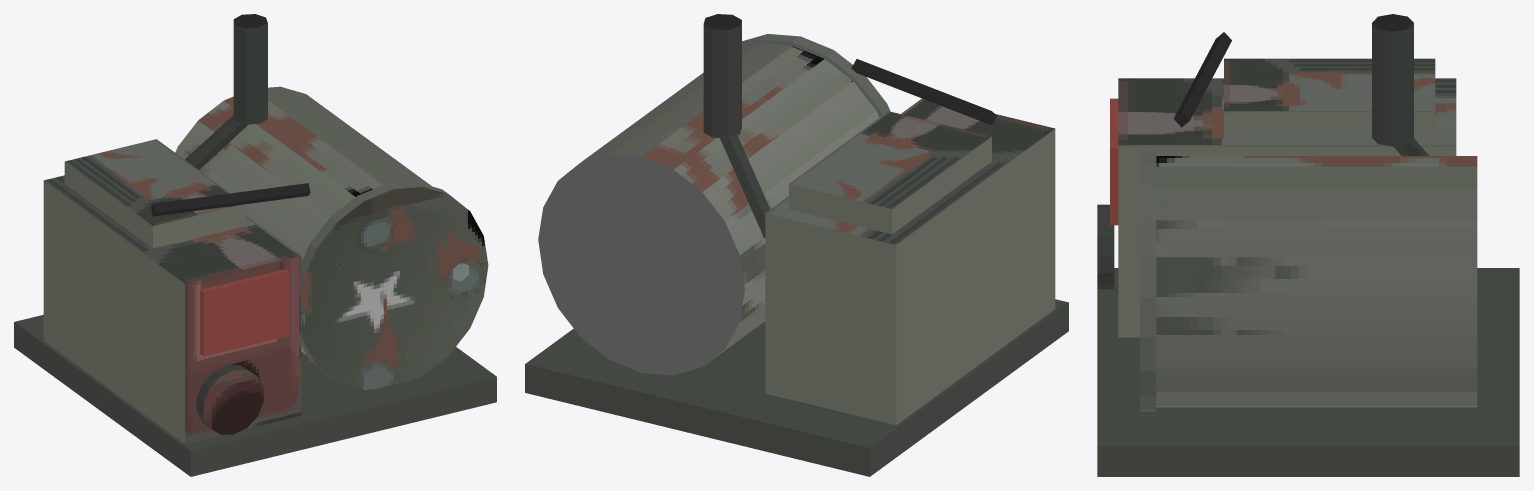
Rendered from Building_AncientMilitaryGeneratorSmall.glb.
3 views of the same model, side by side, from view 1: azimuth 30°, elevation 25°; view 2: azimuth 150°, elevation 25°; view 3: azimuth 270°, elevation 25° (orthographic). The views are drawn at different scales.
Parts seen in each view (by area): view 1: AncientMilitaryGeneratorSmall; view 2: AncientMilitaryGeneratorSmall; view 3: AncientMilitaryGeneratorSmall.
Part boxes in pixels (x1,y1,x2,y2): AncientMilitaryGeneratorSmall: (14,14,496,476); AncientMilitaryGeneratorSmall: (525,14,1068,476); AncientMilitaryGeneratorSmall: (1097,14,1519,476).
Size of the model in its own units: 1.03 by 1 by 1.
Materials: 1 (1 with a texture image).
